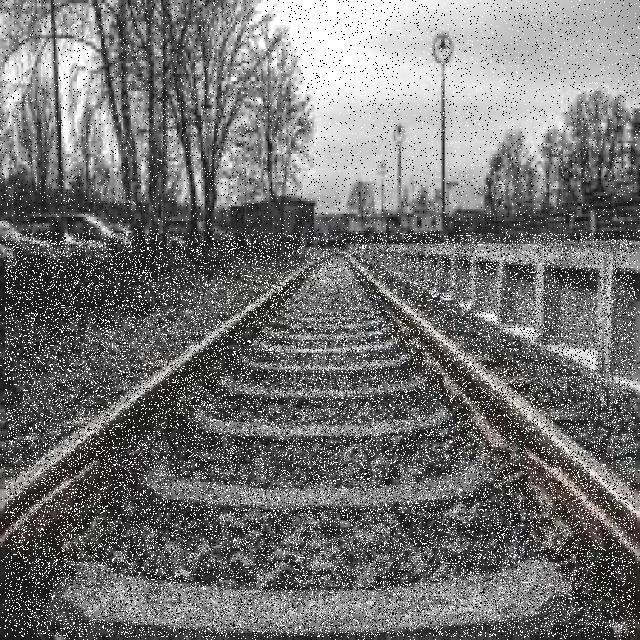rail: (6, 234, 635, 637)
